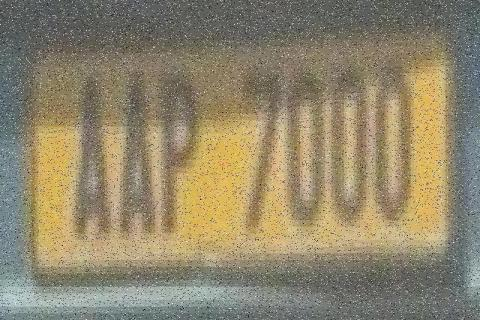LicensePlate: (28, 21, 460, 287)
